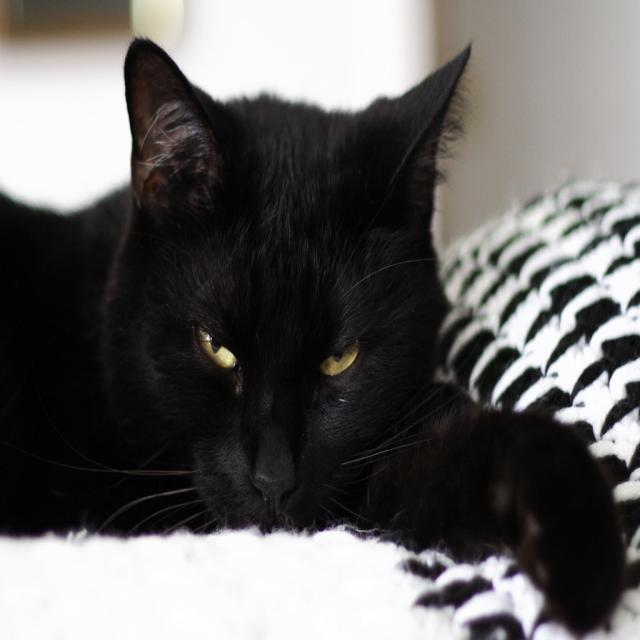Cat: (0, 32, 630, 632)
